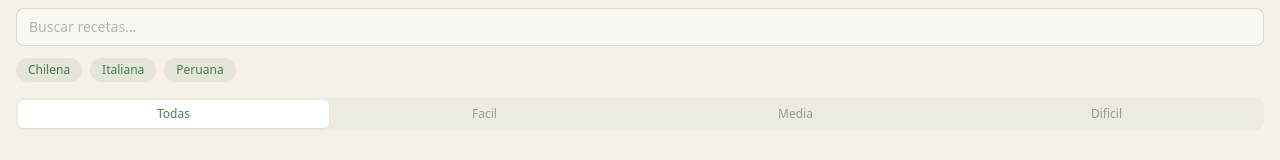
Test case: RecipeFilters › clears search input when inline clear button is clicked
Type "pollo" into the field with placeholder "Buscar recetas..." at (640, 27), box [16,8,1264,46]
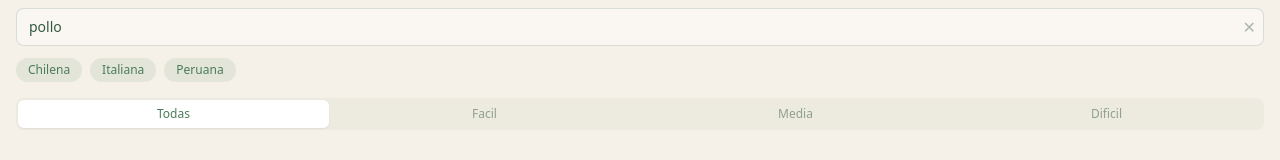
Click the button named "Limpiar busqueda" at (1249, 27), box [1243,15,1256,39]
Wait 300 ms
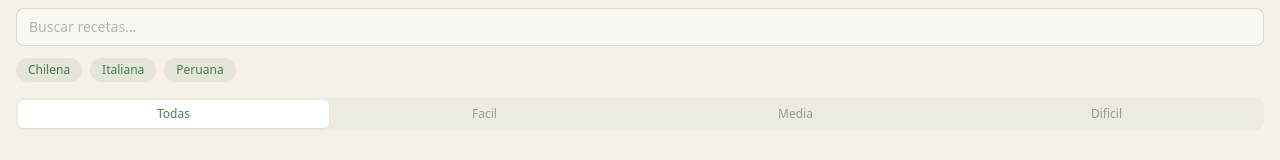
Check: the field with placeholder "Buscar recetas..." is empty, box [16,8,1264,46]
